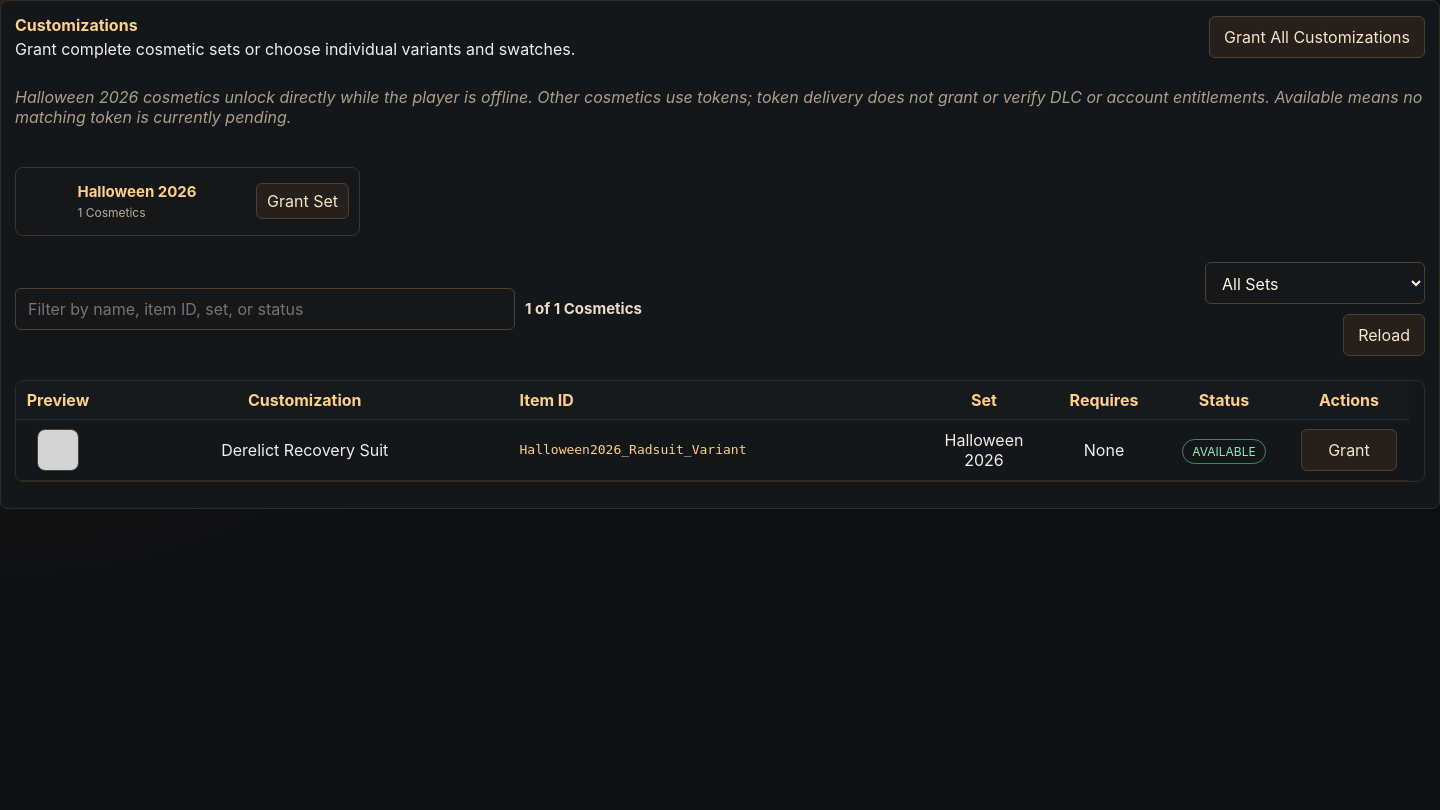
Test: unlocks Halloween cosmetics directly with an offline confirmation and ownership status
Click the button "Grant".
click(1349, 450)  # box [1301,429,1397,471]
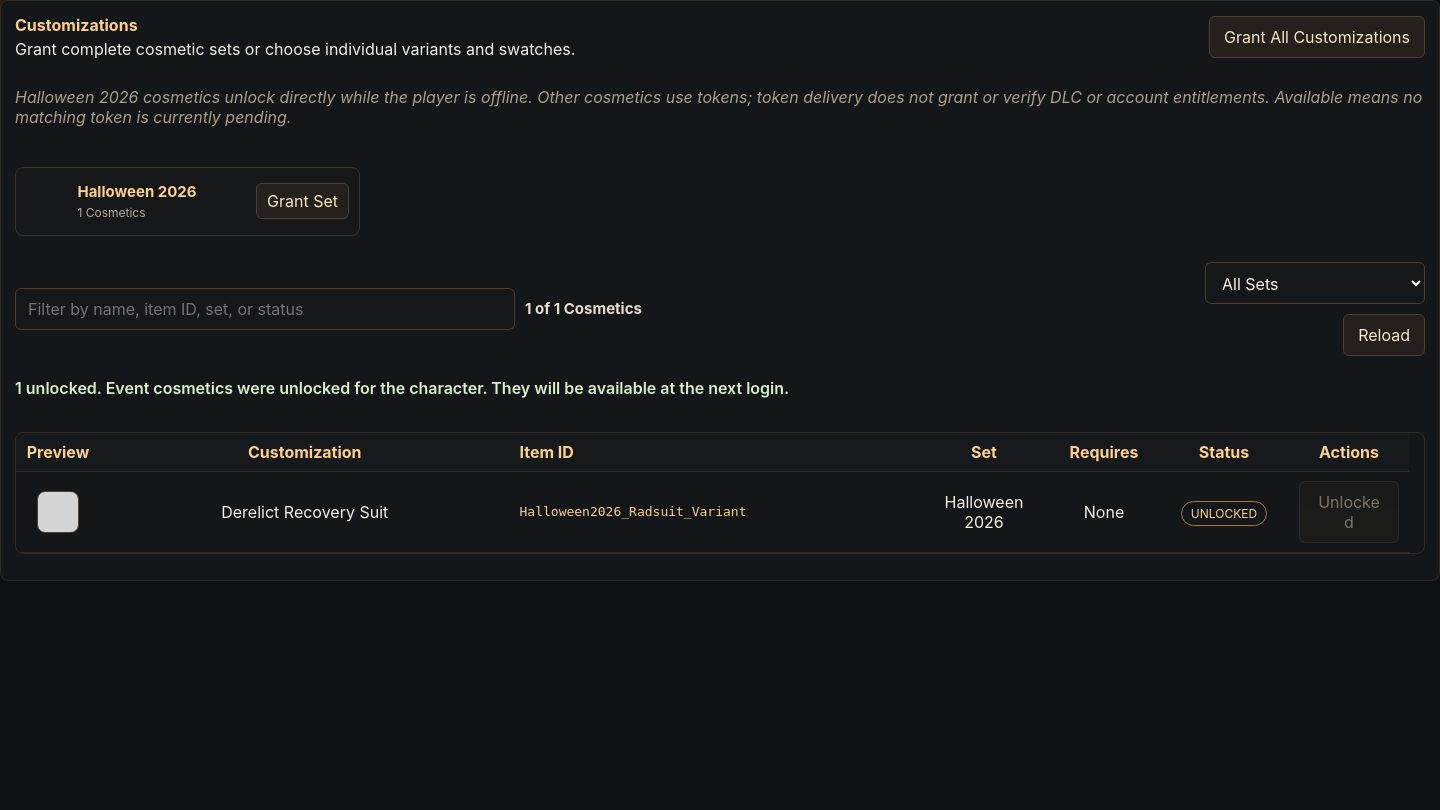
Check: the text "1 unlocked" is shown, box [15,378,789,398]
Check: the button "Unlocked" is disabled, box [1299,481,1399,543]
